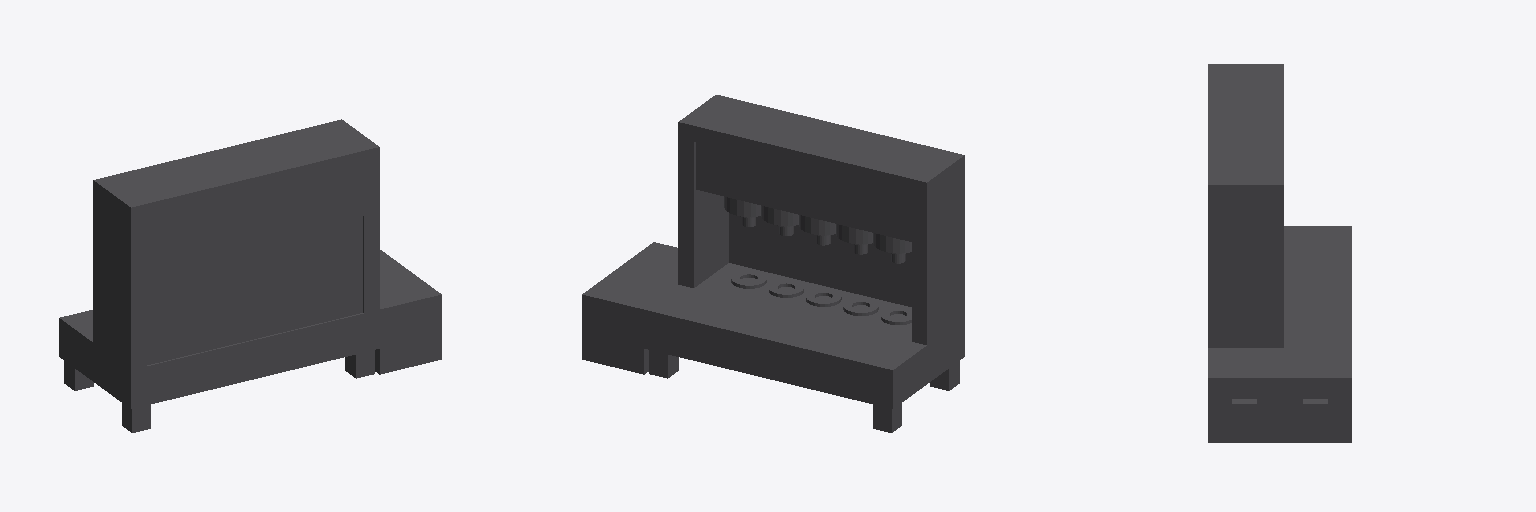
Rendered from canner.obj.
3 views of the same model, side by side, from view 1: azimuth 30°, elevation 25°; view 2: azimuth 150°, elevation 25°; view 3: azimuth 270°, elevation 25° (orthographic).
Visible parts, largest first — view 1: Body; view 2: Body, Plates, Spouts; view 3: Body.
Part boxes in pixels (x1,y1,x2,y2): Body: (59,119,441,432); Body: (582,95,964,432); Plates: (731,271,911,324); Spouts: (742,217,905,263); Body: (1208,64,1351,442).
Bounding box in the file's own units: 10.35 × 7 × 4.